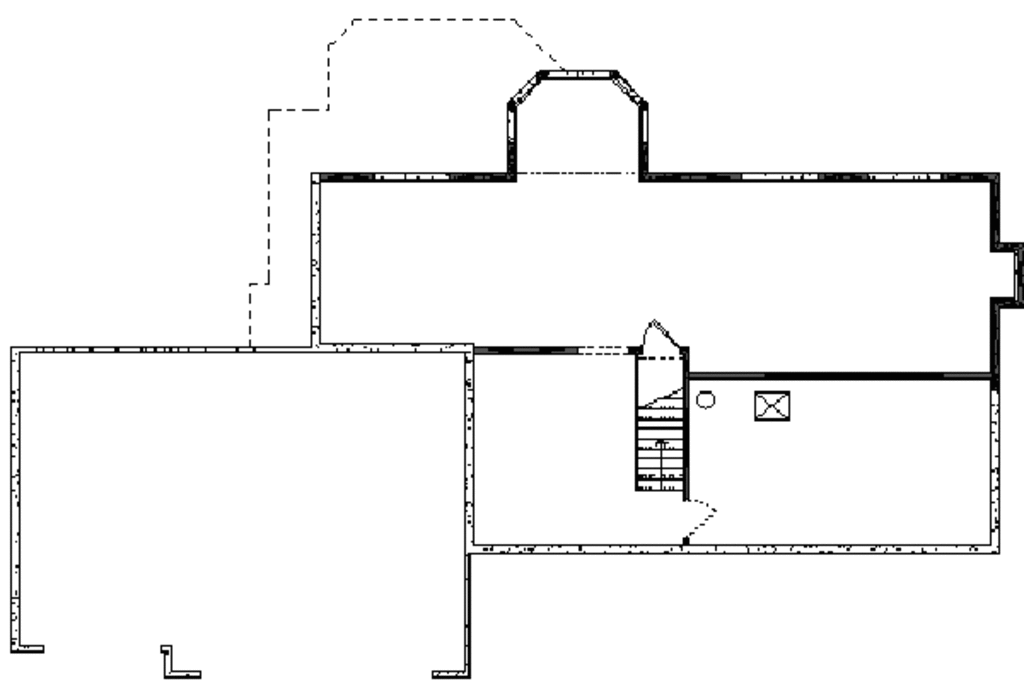stairs: (634, 354, 694, 493)
windows: (731, 171, 820, 186), (857, 171, 944, 184), (370, 171, 450, 184)
